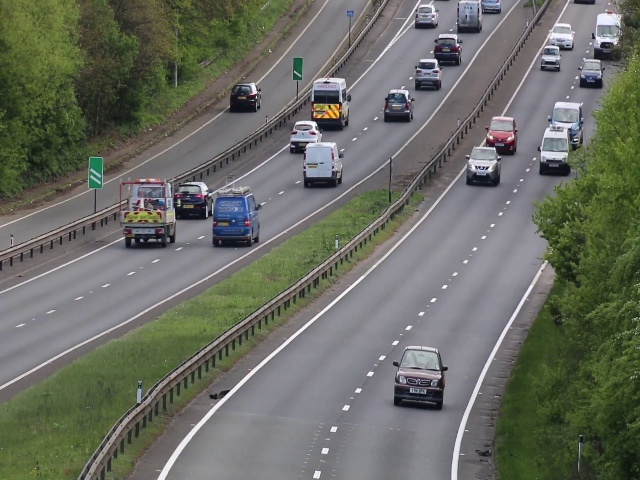car: (118, 178, 177, 251), (395, 344, 445, 409), (211, 191, 261, 247), (311, 75, 351, 130), (303, 140, 344, 187), (467, 146, 502, 187), (537, 134, 569, 172), (487, 115, 517, 154), (594, 15, 620, 59), (229, 81, 263, 113), (384, 87, 414, 122), (180, 181, 210, 216), (412, 58, 444, 90), (436, 33, 462, 67), (551, 102, 583, 127), (456, 1, 481, 33), (288, 120, 321, 144), (580, 60, 601, 89), (415, 5, 439, 29), (551, 23, 573, 48), (541, 46, 560, 71)
